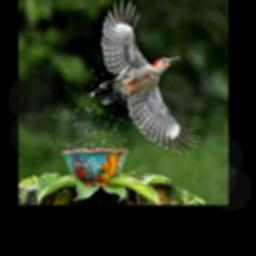Woodpecker: (93, 0, 200, 152)
